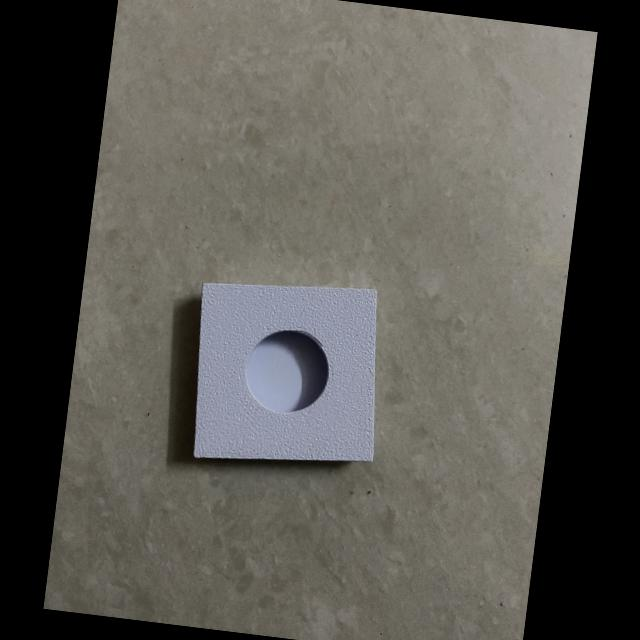RASPBERY PI CAM ENCLOSURE: (180, 268, 394, 479)
